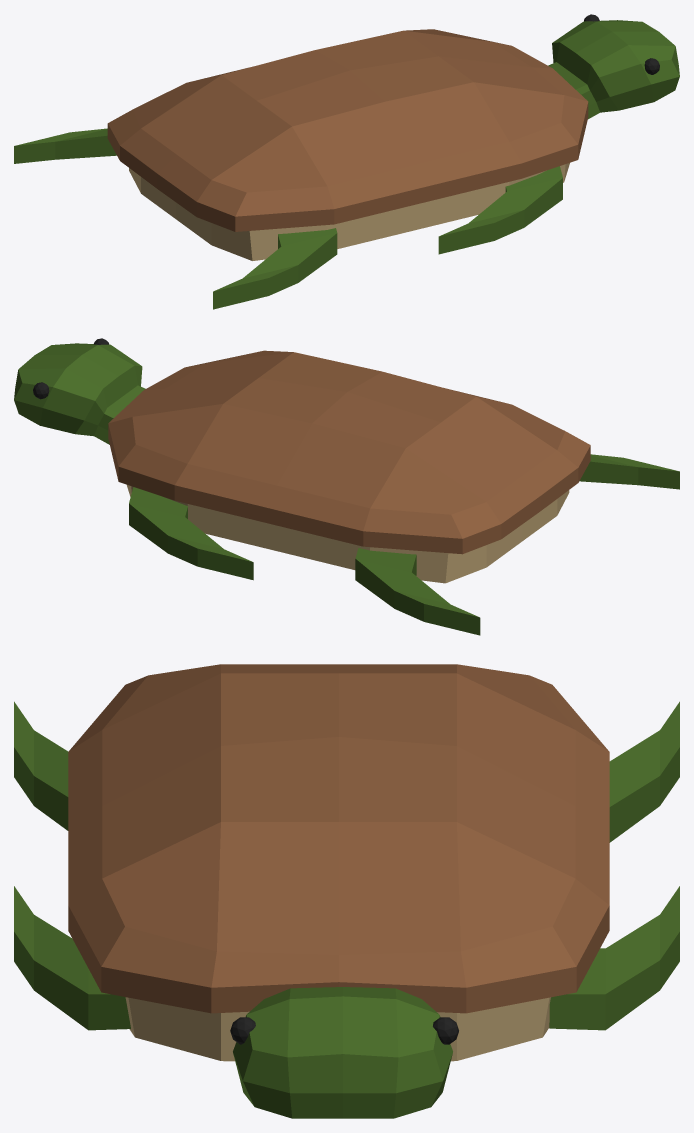
Rendered from Turtle.fbx.
The picture shows the model from 3 angles, top to bottom: view 1: azimuth 30°, elevation 25°; view 2: azimuth 150°, elevation 25°; view 3: azimuth 270°, elevation 25°; orthographic projection. The views are drawn at different scales.
Visible parts, largest first — view 1: Cube, Head, Fin.002, Fin.003, Fin.001; view 2: Cube, Head, Fin.001, Fin.004, Fin.002; view 3: Cube, Head, Fin.004, Fin.003, Fin.001, Fin.002.
Boxes of the visible parts, x1,y1,x2,y2 form: Cube: (107,29,588,260); Head: (548,20,679,119); Fin.002: (213,228,337,309); Fin.003: (438,166,562,254); Fin.001: (14,128,116,163); Cube: (108,350,590,583); Head: (14,343,145,444); Fin.001: (355,548,480,635); Fin.004: (129,487,253,580); Fin.002: (579,454,679,489); Cube: (68,664,609,1061); Head: (233,987,452,1118); Fin.004: (549,886,679,1030); Fin.003: (14,886,130,1030); Fin.001: (609,701,679,842); Fin.002: (14,701,68,830).
Bounding box in the file's own units: 924 × 212 × 579.
